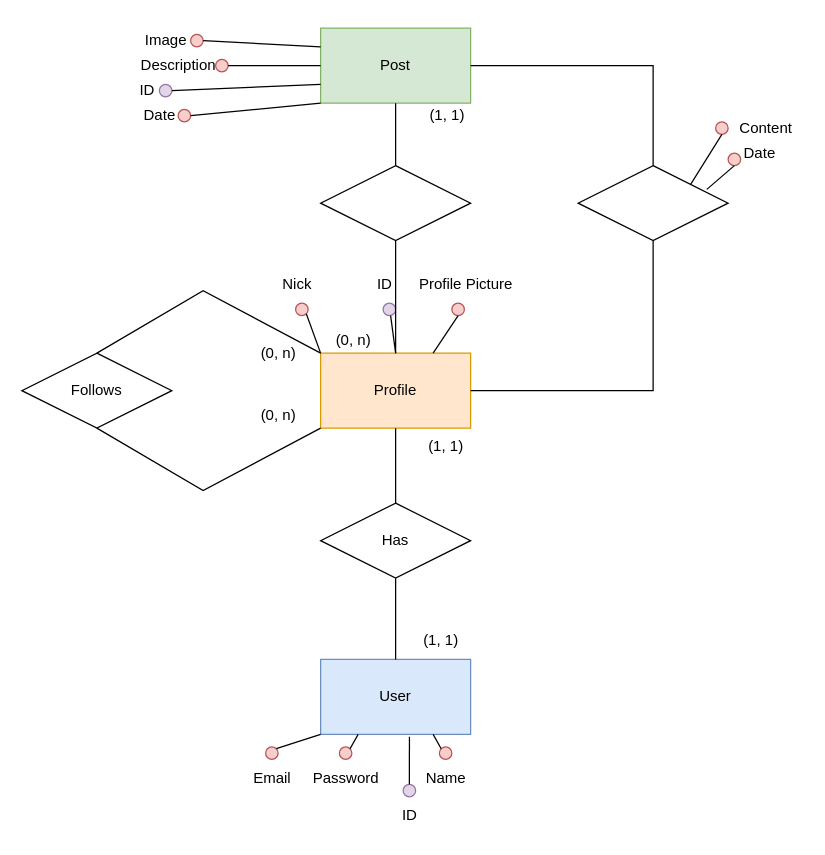
This 825x855 diagram has some shape labels left out. Each missing label, with the centre of its shape:
"Comments" goes at point 652,202.
"Upload" goes at point 395,202.
